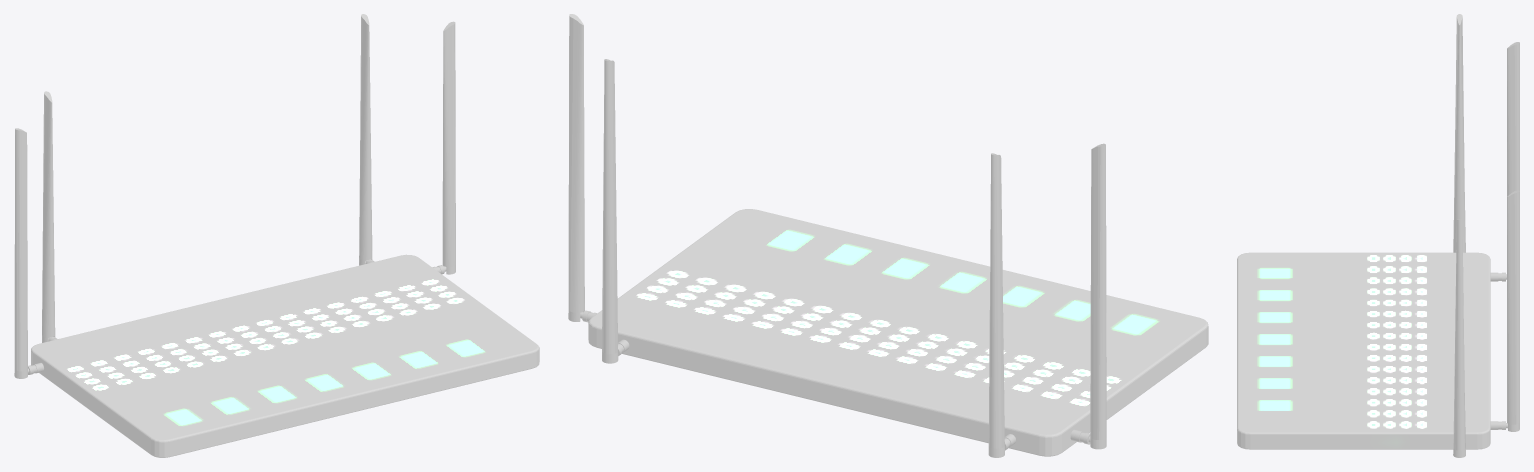
Rendered from Ⅳ类设备网关.glb.
The picture shows the model from 3 angles, left to right: view 1: azimuth 30°, elevation 25°; view 2: azimuth 150°, elevation 25°; view 3: azimuth 270°, elevation 25°; orthographic projection. The views are drawn at different scales.
Visible parts, largest first — view 1: Router_8, Antena04_6, Antena_0, Antena03_4, Antena02_2; view 2: Router_8, Antena04_6, Antena_0, Antena03_4, Antena02_2; view 3: Router_8, Antena02_2, Antena_0, Antena04_6, Antena03_4.
Part boxes in pixels (x1,y1,x2,y2): Router_8: (31, 254, 539, 457); Antena04_6: (14, 128, 27, 378); Antena_0: (442, 21, 455, 274); Antena03_4: (42, 91, 55, 342); Antena02_2: (359, 14, 372, 265); Router_8: (588, 209, 1208, 456); Antena04_6: (1090, 143, 1106, 449); Antena_0: (568, 14, 584, 321); Antena03_4: (988, 153, 1004, 457); Antena02_2: (602, 59, 618, 363); Router_8: (1237, 252, 1490, 449); Antena02_2: (1507, 190, 1519, 431); Antena_0: (1453, 219, 1465, 457); Antena04_6: (1453, 14, 1465, 252); Antena03_4: (1507, 42, 1519, 196).
Bounding box in the file's own units: 0.2291 × 0.1258 × 0.133.
